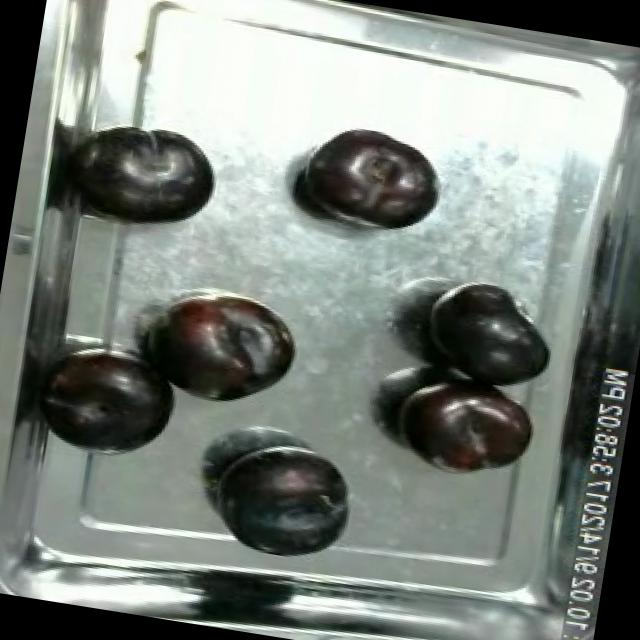Fruit: (134, 278, 304, 418), (203, 432, 364, 573), (381, 365, 548, 495), (65, 108, 226, 240), (411, 272, 568, 403), (286, 114, 449, 240), (36, 336, 188, 468)
